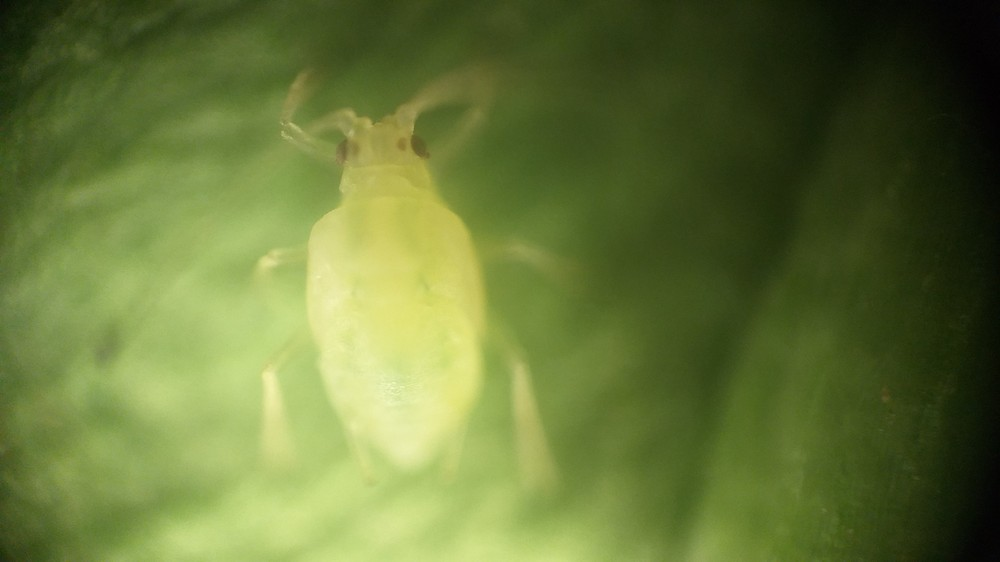Pulgon: (223, 60, 624, 517)
